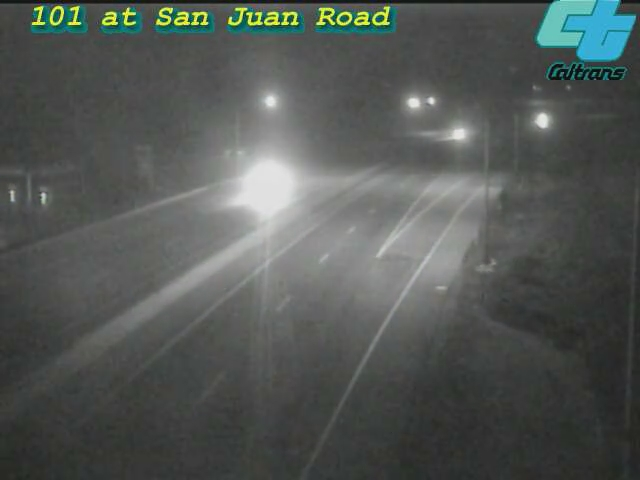vehicle: (224, 146, 304, 226), (430, 111, 480, 161), (517, 95, 567, 145)
